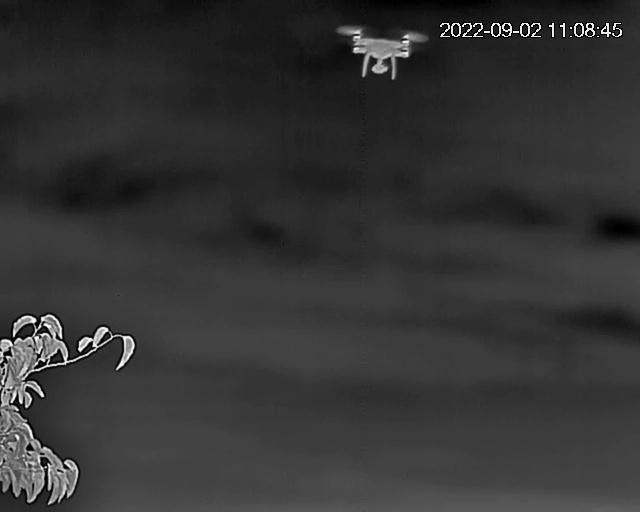DJI-Phantom: (340, 26, 424, 81)
